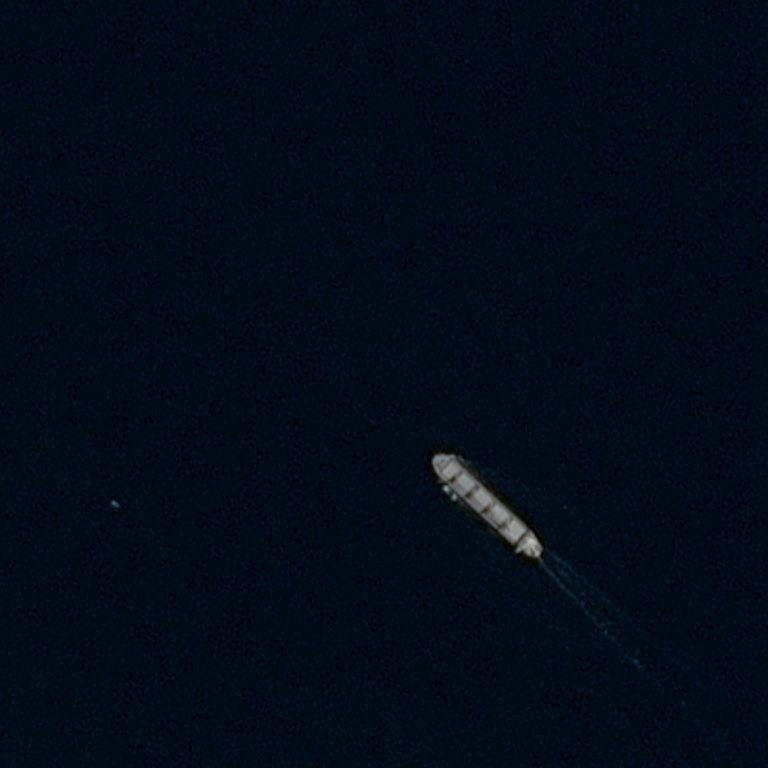ship: (461, 480, 518, 534), (534, 542, 541, 549), (526, 540, 534, 546), (432, 452, 437, 457)
